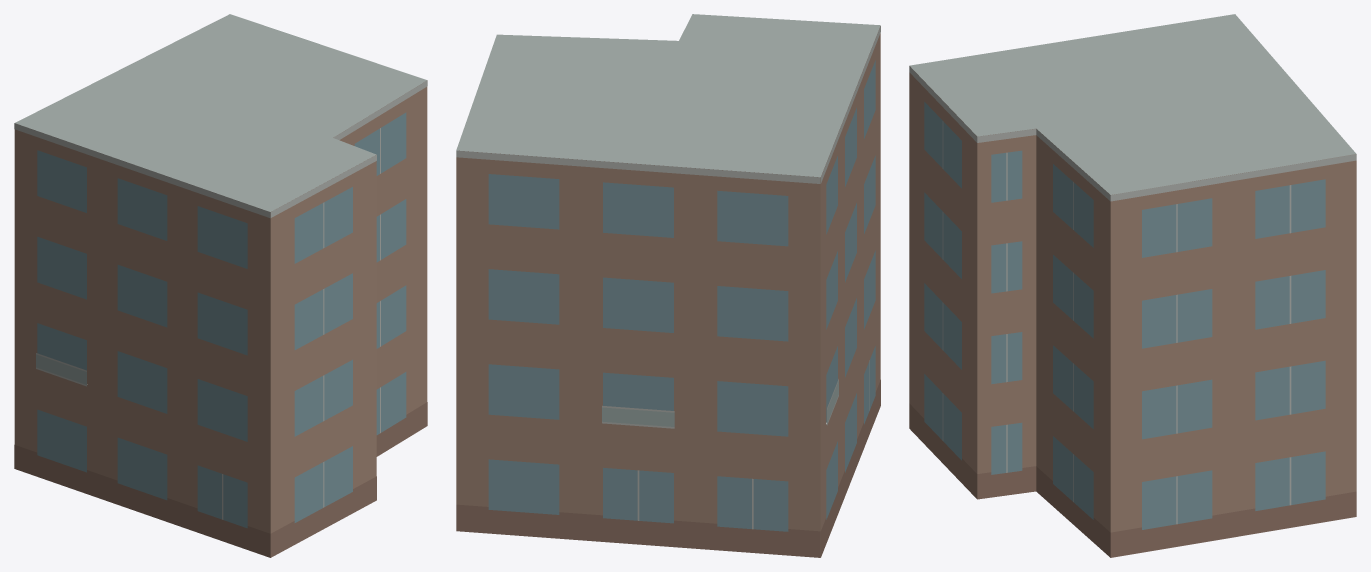
Rendered from survey-upis-32847288.glb.
The picture shows the model from 3 angles, left to right: view 1: azimuth 30°, elevation 25°; view 2: azimuth 150°, elevation 25°; view 3: azimuth 270°, elevation 25°; orthographic projection. The views are drawn at different scales.
Visible parts, largest first — view 1: survey-upis-32847288.tmp; view 2: survey-upis-32847288.tmp; view 3: survey-upis-32847288.tmp.
Boxes of the visible parts, box(x1,y1,x2,y2) form: survey-upis-32847288.tmp: box(14, 14, 427, 557); survey-upis-32847288.tmp: box(456, 14, 880, 557); survey-upis-32847288.tmp: box(909, 14, 1356, 557).
Size of the model in its own units: 14.62 by 13.65 by 15.26.
